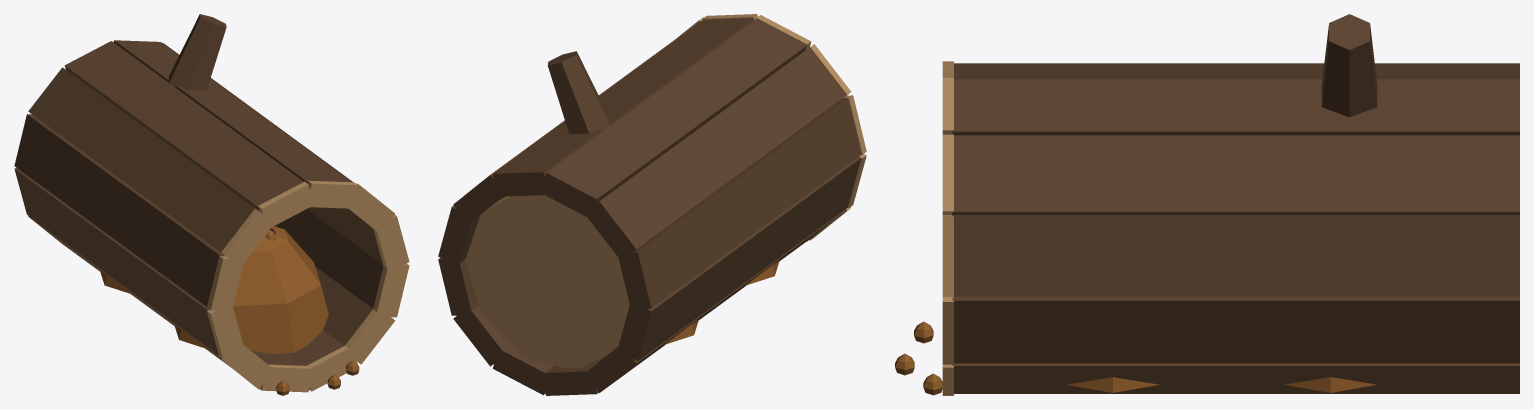
File: Prop_Hoard_Cache_Full.glb
3 views of the same model, side by side, from view 1: azimuth 30°, elevation 25°; view 2: azimuth 150°, elevation 25°; view 3: azimuth 270°, elevation 25° (orthographic). The views are drawn at different scales.
Visible parts, largest first — view 1: Prop_Hoard_Cache_Full, Prop_Hoard_Cache_Full_Fill; view 2: Prop_Hoard_Cache_Full, Prop_Hoard_Cache_Full_Fill; view 3: Prop_Hoard_Cache_Full, Prop_Hoard_Cache_Full_Fill.
Part boxes in pixels (x1,y1,x2,y2): Prop_Hoard_Cache_Full: (14, 14, 409, 392); Prop_Hoard_Cache_Full_Fill: (100, 226, 359, 395); Prop_Hoard_Cache_Full: (438, 14, 866, 395); Prop_Hoard_Cache_Full_Fill: (664, 260, 779, 344); Prop_Hoard_Cache_Full: (942, 14, 1519, 395); Prop_Hoard_Cache_Full_Fill: (895, 321, 1376, 395).
Size of what is drawn, in the model's own units: 0.3546 by 0.4522 by 0.6604.
